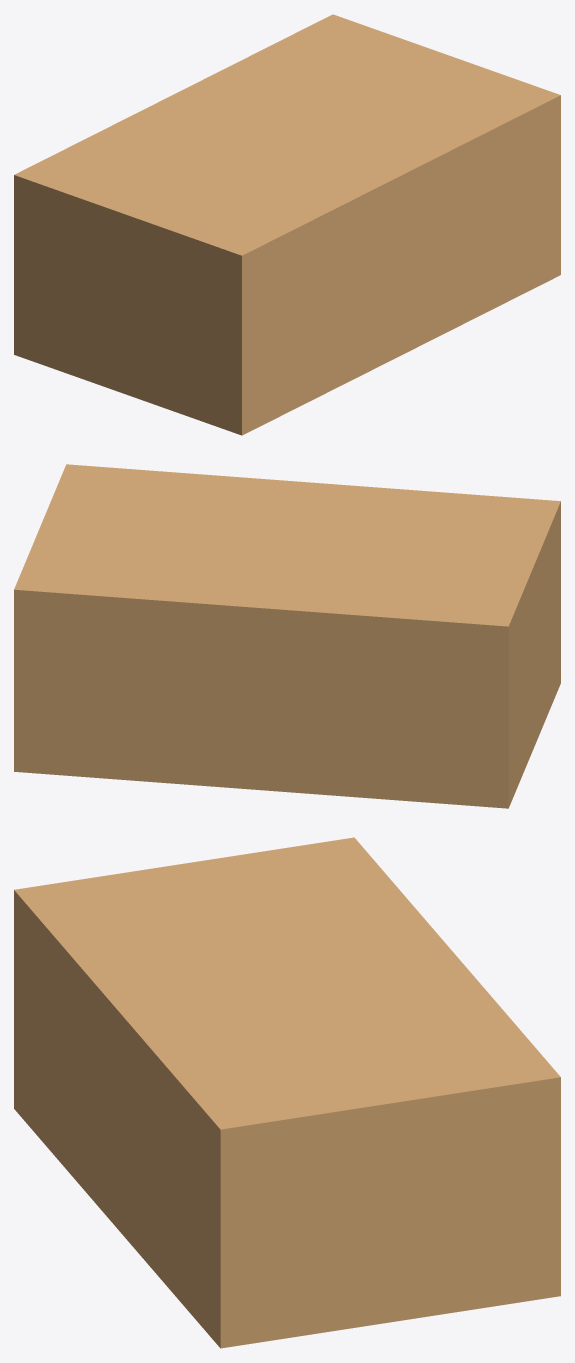
The picture shows the model from 3 angles, top to bottom: view 1: azimuth 30°, elevation 25°; view 2: azimuth 150°, elevation 25°; view 3: azimuth 270°, elevation 25°; orthographic projection. The views are drawn at different scales.
Visible parts, largest first — view 1: N1 Новый склад; view 2: N1 Новый склад; view 3: N1 Новый склад.
Boxes of the visible parts, <box> form: N1 Новый склад: <box>14,14,560,435</box>; N1 Новый склад: <box>14,464,560,808</box>; N1 Новый склад: <box>14,837,560,1348</box>.
Bounding box in the file's own units: 34.35 × 12 × 27.18.
